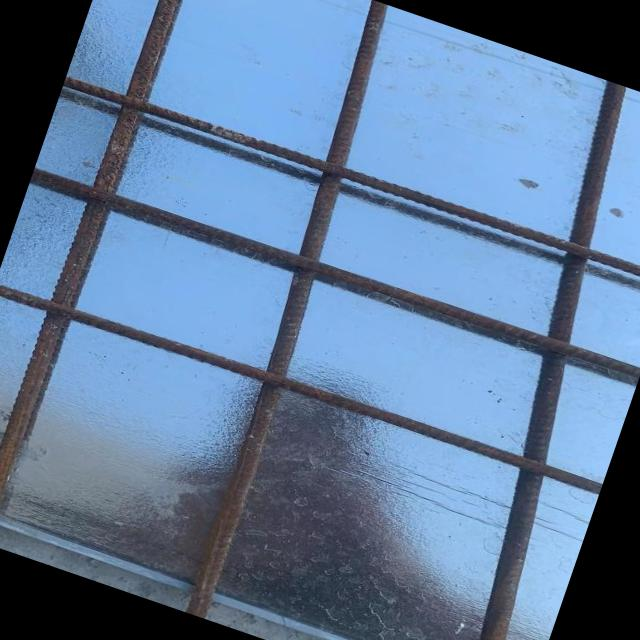ribbed bar: (163, 0, 414, 618), (29, 158, 640, 388), (393, 78, 640, 640), (0, 274, 601, 502), (62, 67, 640, 294), (0, 0, 204, 546)
